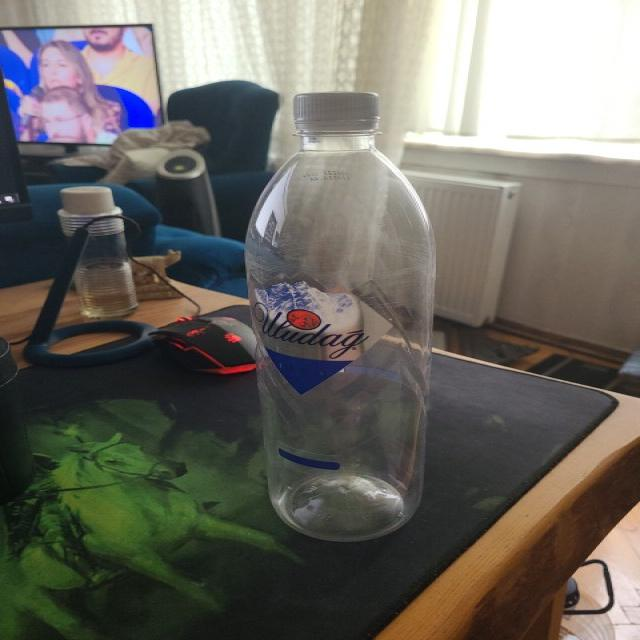plastic_bottle: (244, 91, 438, 542), (58, 186, 138, 320)
